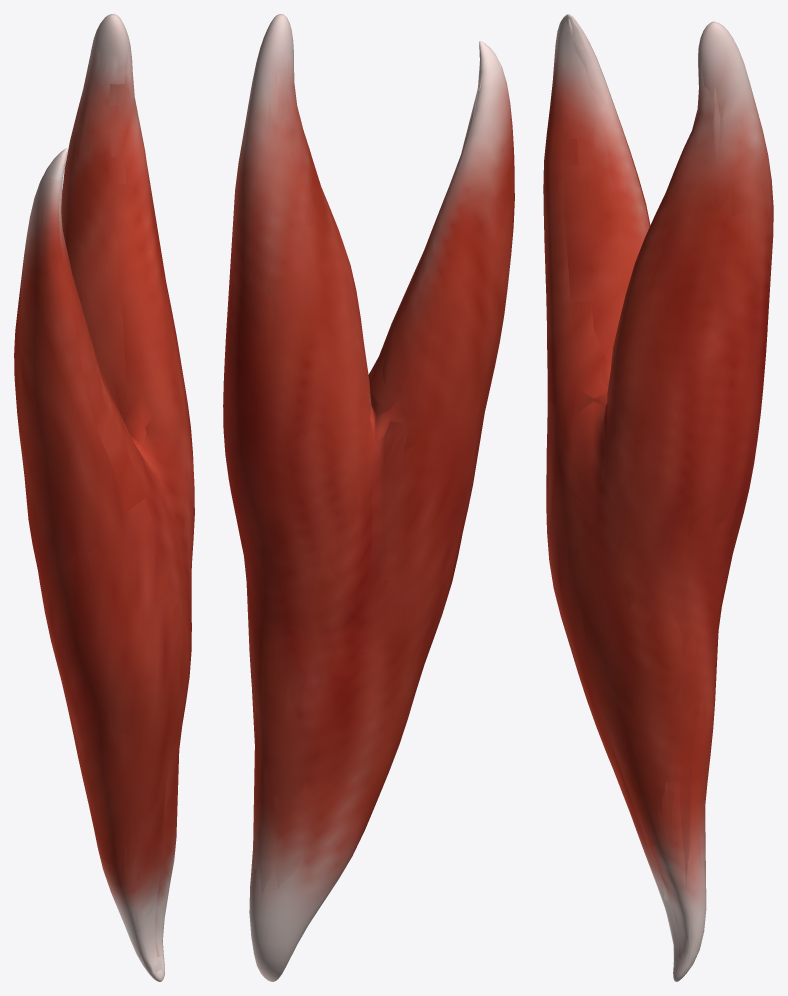
The model's file is L Flexor Carpi Ulnaris.fbx.
3 renders of one model, left to right at view 1: azimuth 30°, elevation 25°; view 2: azimuth 150°, elevation 25°; view 3: azimuth 270°, elevation 25°, orthographic. The views are drawn at different scales.
Parts seen in each view (by area): view 1: L Flexor Carpi Ulnaris, L Flexor Carpi Ulnaris low; view 2: L Flexor Carpi Ulnaris, L Flexor Carpi Ulnaris low; view 3: L Flexor Carpi Ulnaris, L Flexor Carpi Ulnaris low.
Boxes of the visible parts, x1,y1,x2,y2 form: L Flexor Carpi Ulnaris: (14, 14, 194, 981); L Flexor Carpi Ulnaris low: (18, 26, 194, 972); L Flexor Carpi Ulnaris: (223, 14, 514, 981); L Flexor Carpi Ulnaris low: (226, 42, 511, 973); L Flexor Carpi Ulnaris: (543, 14, 773, 981); L Flexor Carpi Ulnaris low: (543, 16, 773, 973).
Size of the model in its own units: 9.38 by 41.42 by 9.14.
